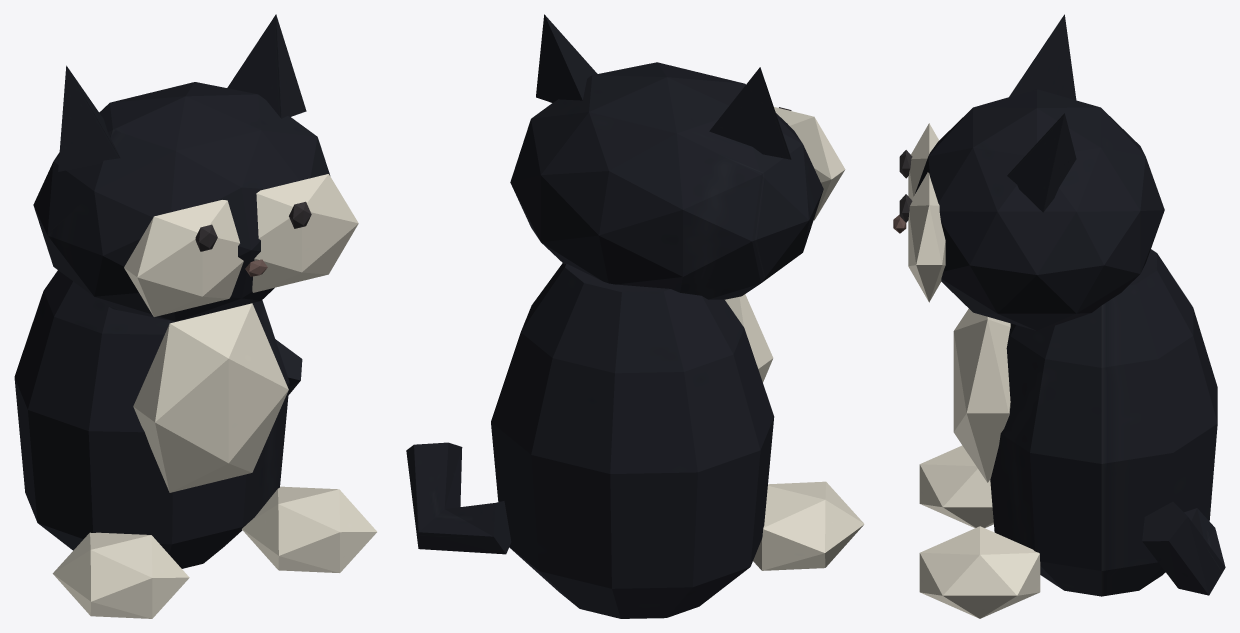
File: cat_plush.glb
The picture shows the model from 3 angles, left to right: view 1: azimuth 30°, elevation 25°; view 2: azimuth 150°, elevation 25°; view 3: azimuth 270°, elevation 25°; orthographic projection. The views are drawn at different scales.
Visible parts, largest first — view 1: arcade_cat_plush; view 2: arcade_cat_plush; view 3: arcade_cat_plush.
Part boxes in pixels (x1,y1,x2,y2): arcade_cat_plush: (14, 14, 376, 618); arcade_cat_plush: (406, 14, 864, 618); arcade_cat_plush: (893, 14, 1225, 618).
Bounding box in the file's own units: 0.2377 × 0.36 × 0.2157.
Materials: 1 (1 with a texture image).
